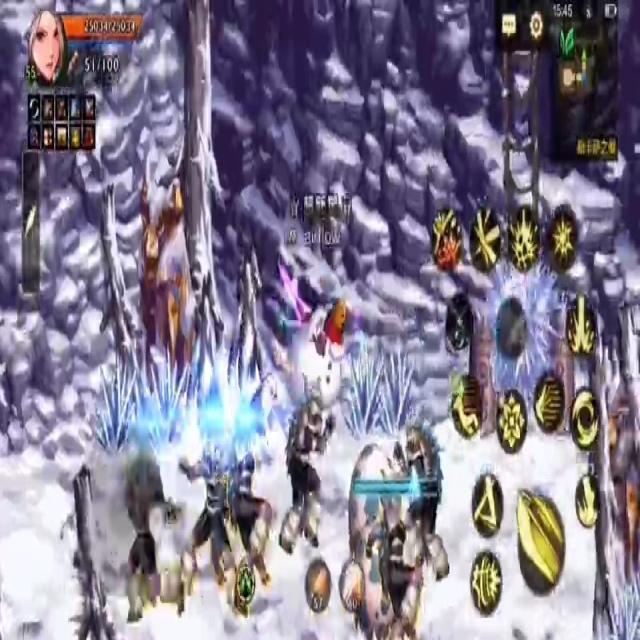player: (287, 294, 348, 421)
